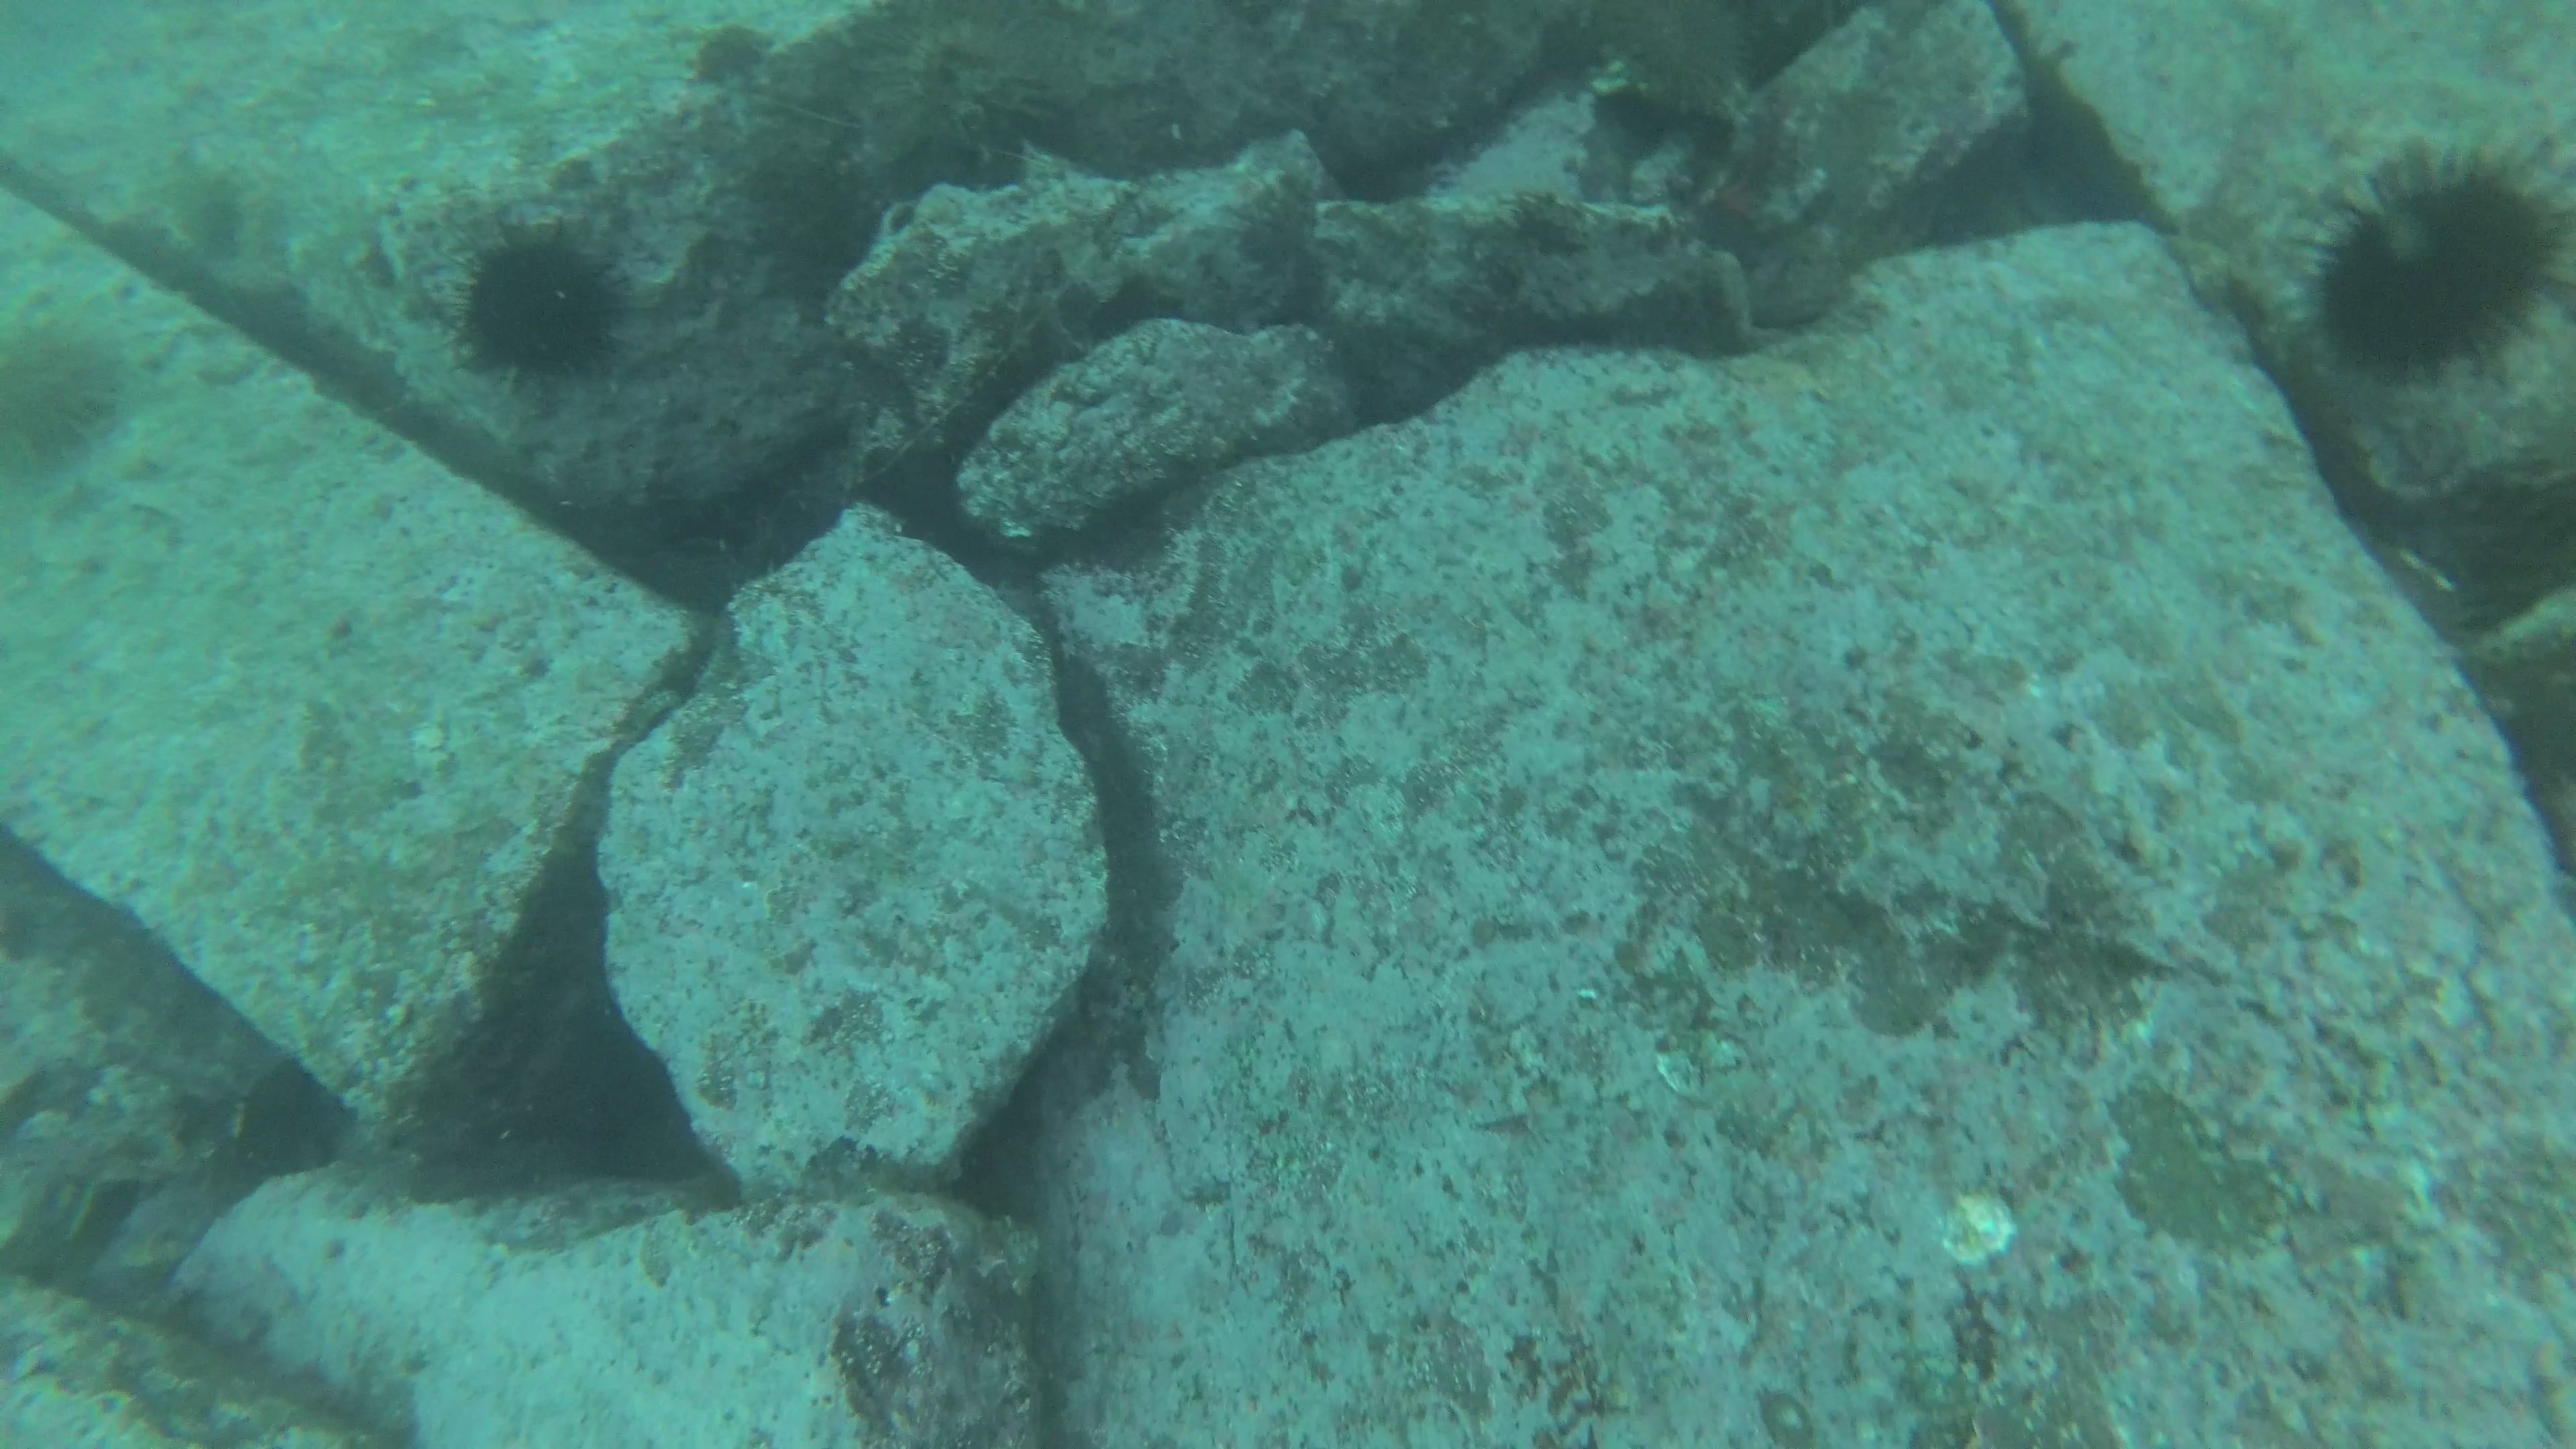echinus: (2295, 136, 2571, 387), (446, 218, 633, 389), (2, 308, 133, 478)
